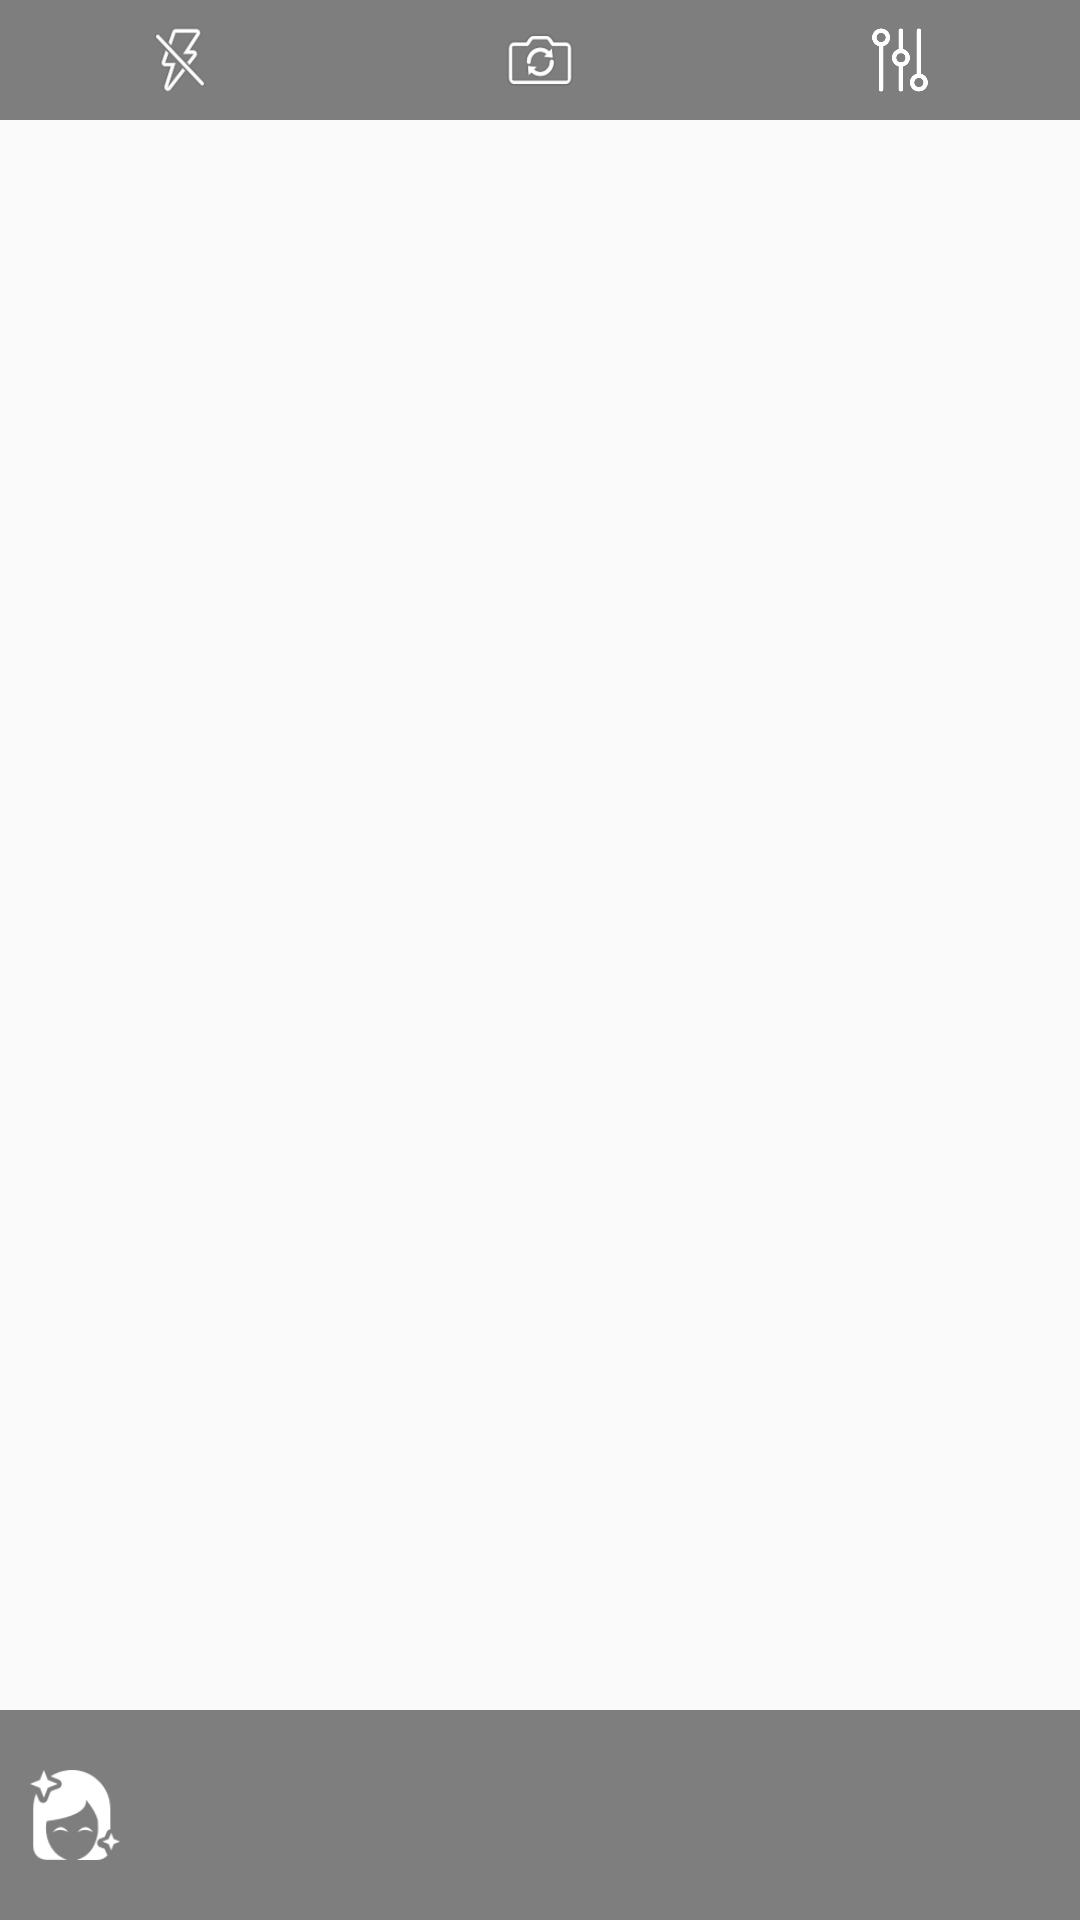

Icon bounding boxes for this 1080×1920 phone screenshot, format (x1, y1, x2, y2):
camera: (509, 36, 571, 84)
camera beauty on: (30, 1770, 120, 1860)
camera flashlight off: (156, 29, 204, 91)
camera menu: (872, 28, 928, 92)
